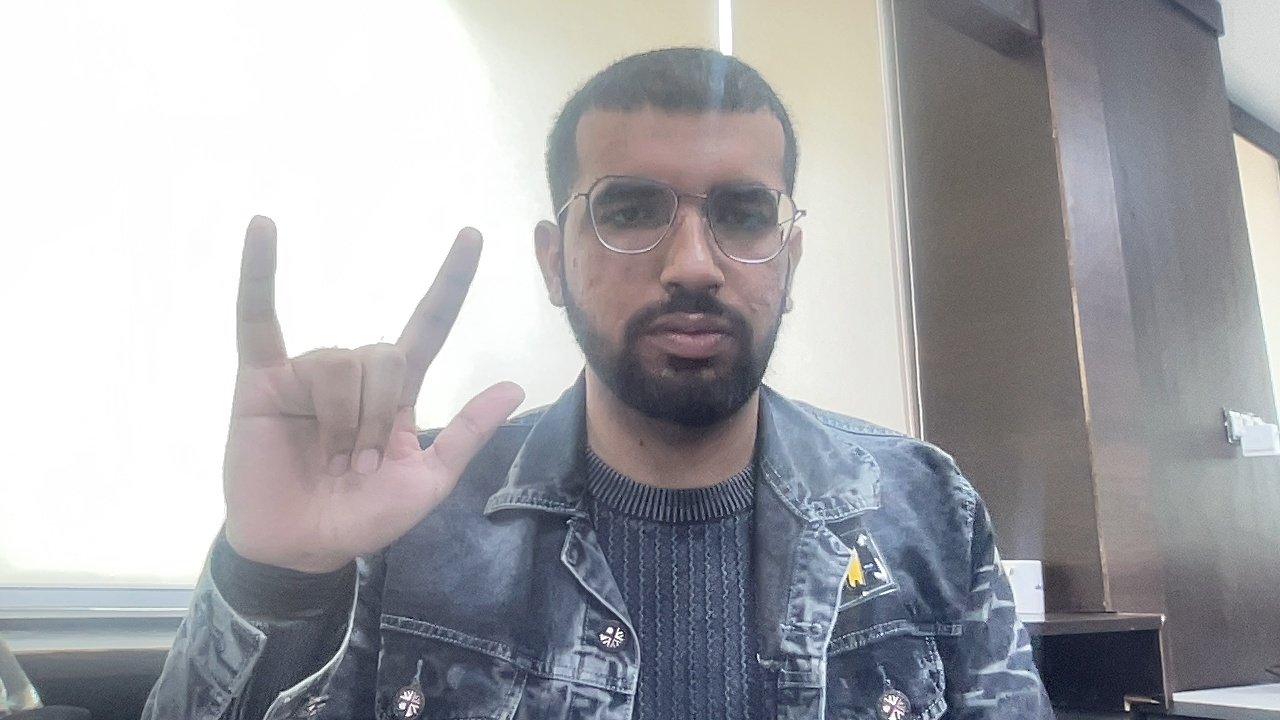I Love You: (146, 185, 537, 563)
